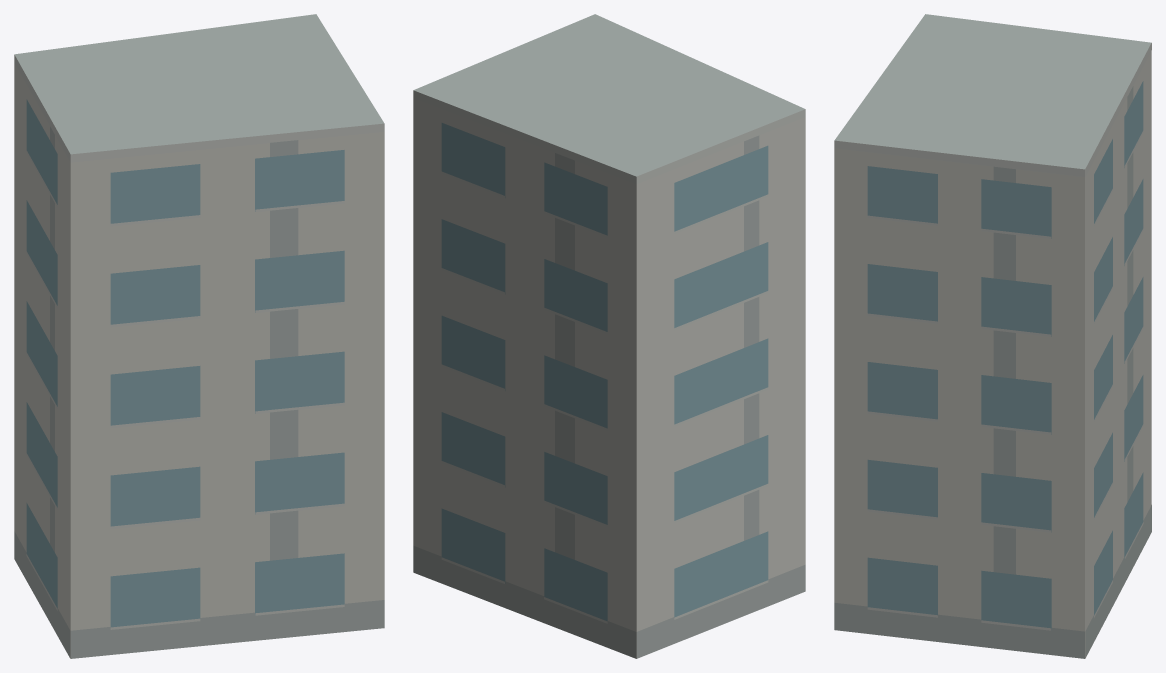
Rendered from survey-upis-32590906.glb.
3 views of the same model, side by side, from view 1: azimuth 30°, elevation 25°; view 2: azimuth 150°, elevation 25°; view 3: azimuth 270°, elevation 25° (orthographic). The views are drawn at different scales.
Parts seen in each view (by area): view 1: survey-upis-32590906.tmp; view 2: survey-upis-32590906.tmp; view 3: survey-upis-32590906.tmp.
Part boxes in pixels (box(x1,y1,x2,y2)): survey-upis-32590906.tmp: box(14, 14, 384, 658); survey-upis-32590906.tmp: box(413, 14, 805, 658); survey-upis-32590906.tmp: box(834, 14, 1151, 658).
Size of the model in its own units: 10.39 by 15.25 by 8.97.
